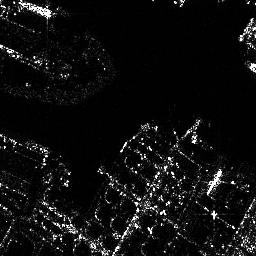ship: (18, 1, 56, 20)
